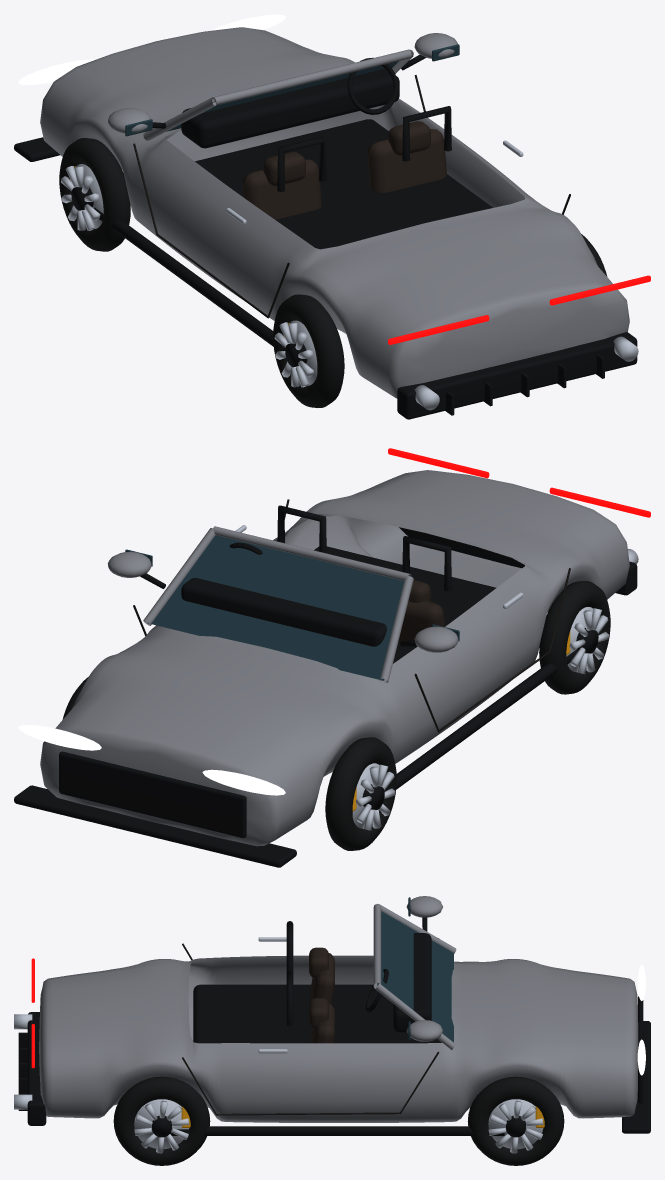
The model's file is ghat-roadster.glb.
The picture shows the model from 3 angles, top to bottom: view 1: azimuth 30°, elevation 25°; view 2: azimuth 150°, elevation 25°; view 3: azimuth 270°, elevation 25°; orthographic projection. The views are drawn at different scales.
Parts seen in each view (by area): view 1: Surface_Paint, Surface_Carbon, Surface_Leather, Tire, Tire.001, Rim_lip, Rim_lip.001, Surface_Tailights, Surface_Headlights, Surface_Glazing, Surface_Alloy, Surface_Panel_seams; view 2: Surface_Paint, Surface_Carbon, Surface_Glazing, Tire.001, Tire, Surface_Headlights, Rim_lip.001, Surface_Leather, Rim_lip, Surface_Tailights, Surface_Panel_seams; view 3: Surface_Paint, Surface_Carbon, Tire.003, Tire.002, Surface_Glazing, Surface_Leather, Rim_lip.003, Rim_lip.002, Surface_Alloy, Surface_Panel_seams, Surface_Headlights.
Boxes of the visible parts, x1,y1,x2,y2 form: Surface_Paint: [40, 27, 629, 398]; Surface_Carbon: [14, 54, 637, 419]; Surface_Leather: [242, 121, 446, 219]; Tire: [273, 294, 344, 407]; Tire.001: [59, 138, 130, 251]; Rim_lip: [274, 320, 317, 387]; Rim_lip.001: [61, 164, 103, 230]; Surface_Tailights: [388, 275, 650, 344]; Surface_Headlights: [18, 14, 285, 84]; Surface_Glazing: [125, 44, 459, 136]; Surface_Alloy: [226, 140, 638, 410]; Surface_Panel_seams: [133, 75, 570, 318]; Surface_Paint: [40, 470, 629, 846]; Surface_Carbon: [14, 505, 637, 867]; Surface_Glazing: [125, 535, 459, 680]; Tire.001: [325, 737, 396, 850]; Tire: [539, 581, 610, 694]; Surface_Headlights: [18, 725, 285, 795]; Rim_lip.001: [352, 763, 395, 830]; Surface_Leather: [398, 580, 445, 642]; Rim_lip: [566, 607, 608, 674]; Surface_Tailights: [388, 448, 650, 517]; Surface_Panel_seams: [133, 499, 570, 732]; Surface_Paint: [39, 896, 638, 1122]; Surface_Carbon: [18, 917, 650, 1135]; Tire.003: [467, 1076, 564, 1165]; Tire.002: [113, 1076, 210, 1165]; Surface_Glazing: [377, 897, 453, 1042]; Surface_Leather: [309, 947, 334, 1043]; Rim_lip.003: [488, 1099, 543, 1153]; Rim_lip.002: [134, 1099, 189, 1153]; Surface_Alloy: [14, 937, 287, 1109]; Surface_Panel_seams: [182, 938, 439, 1115]; Surface_Headlights: [637, 965, 645, 1075].
Size of the model in its own units: 2.15 by 1.21 by 4.15.
